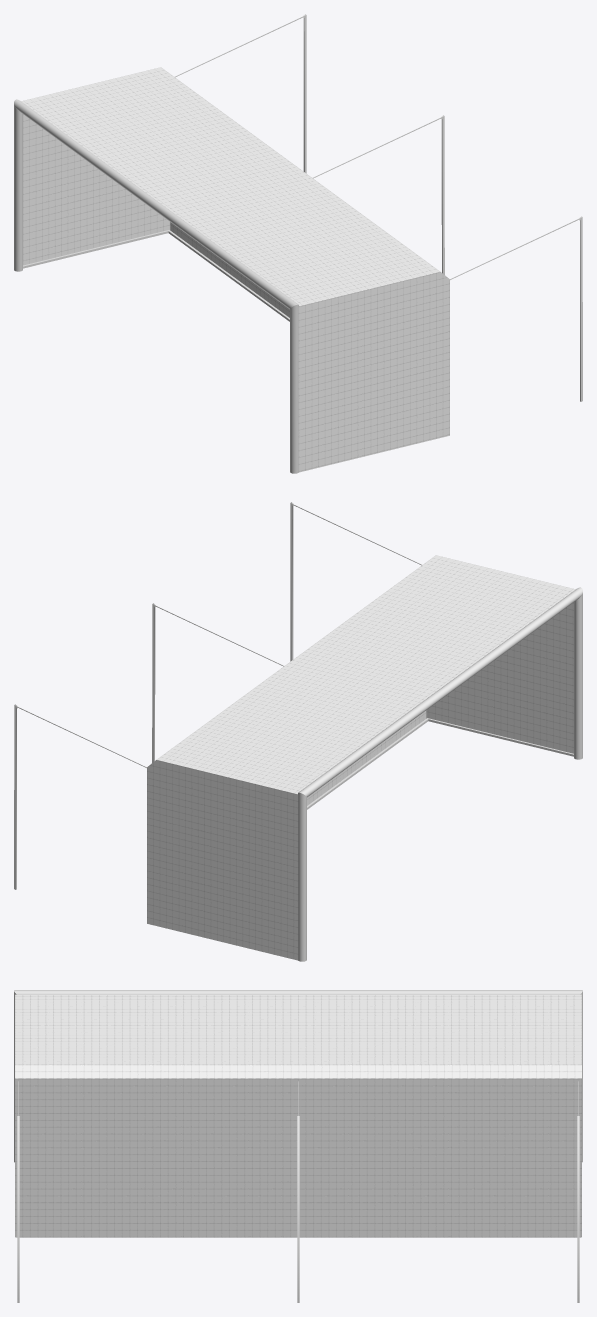
File: Trave03.FBX
The picture shows the model from 3 angles, top to bottom: view 1: azimuth 30°, elevation 25°; view 2: azimuth 150°, elevation 25°; view 3: azimuth 270°, elevation 25°; orthographic projection.
Parts seen in each view (by area): view 1: Rede03, Trave03, Arco03; view 2: Rede03, Trave03, Arco03; view 3: Rede03, Trave03, Arco03.
Part boxes in pixels (x1,y1,x2,y2): Rede03: (21, 67, 449, 472); Trave03: (14, 99, 298, 473); Arco03: (23, 14, 582, 401); Rede03: (147, 555, 575, 960); Trave03: (298, 587, 582, 961); Arco03: (14, 502, 573, 889); Rede03: (15, 994, 581, 1237); Trave03: (14, 990, 582, 1162); Arco03: (17, 1081, 579, 1302).
Size of the model in its own units: 4.45 by 2.7 by 7.42.
